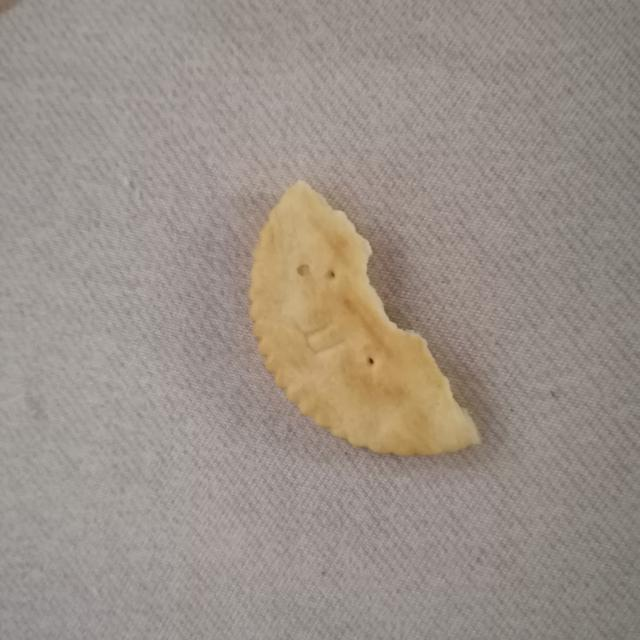Broken: (247, 179, 481, 457)
